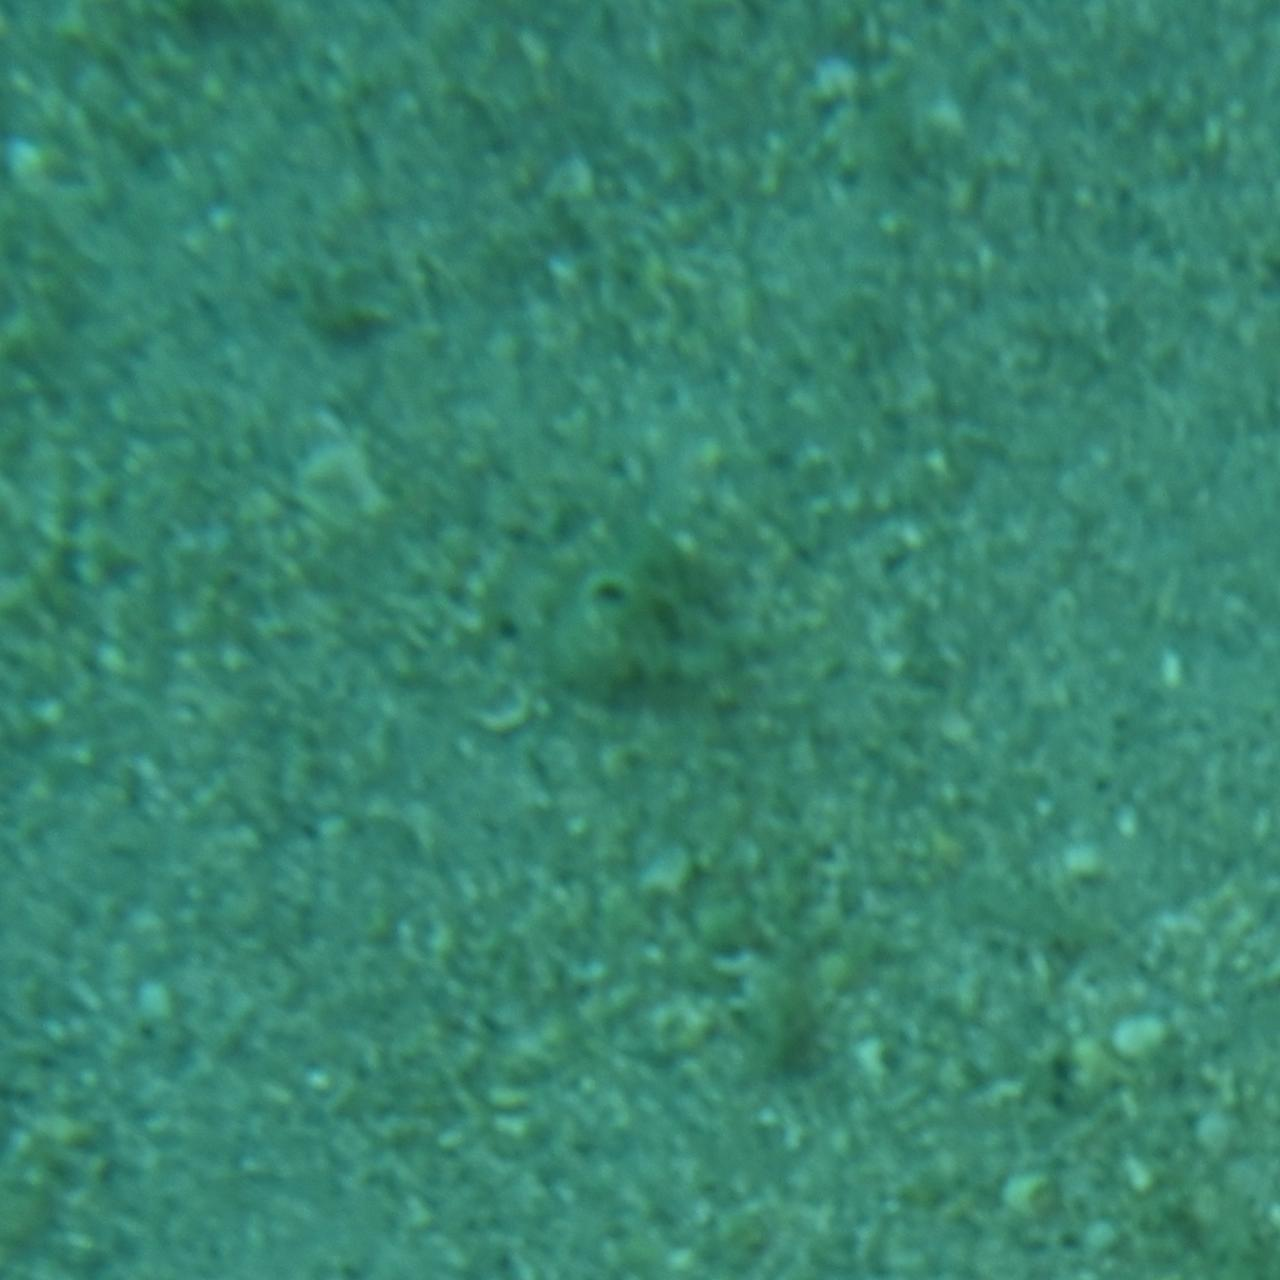Sarcotragus spinosulus: (553, 536, 727, 721)
